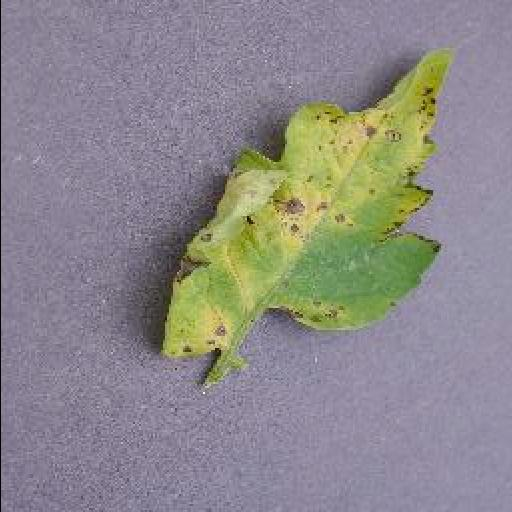disease_tomato: (156, 46, 456, 362)
